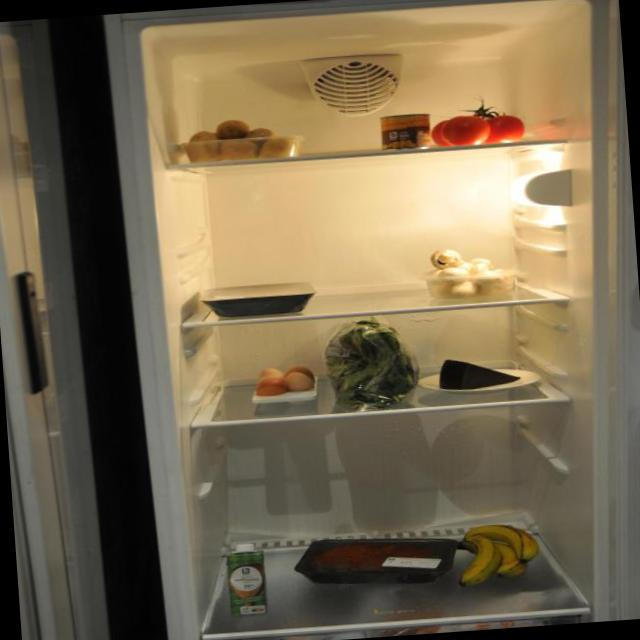Carne vacuno: (304, 532, 442, 586)
Champiñones: (422, 241, 516, 301)
Huevos: (252, 362, 321, 401)
Patata: (176, 114, 300, 167)
Plátano: (456, 520, 545, 589)
Queso: (435, 355, 528, 388)
Tomate: (428, 109, 530, 150)
corn: (381, 114, 434, 152)
heavy_cream: (221, 538, 268, 620)
spinach: (324, 314, 416, 412)
